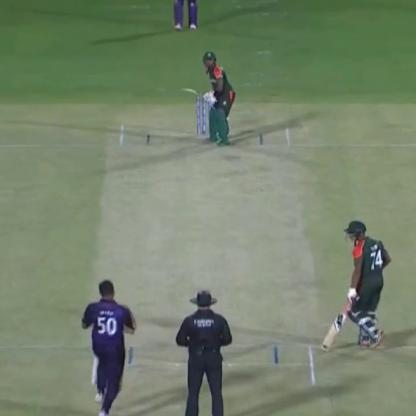bat: (319, 296, 351, 348), (181, 77, 214, 103)
pitch: (97, 113, 309, 397)
